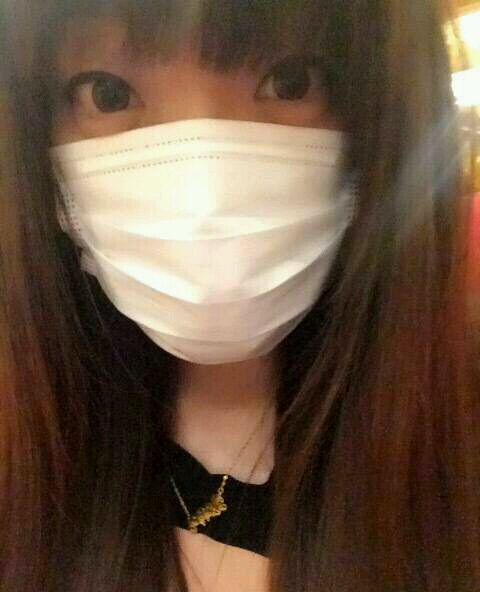OK: (29, 26, 353, 350)
